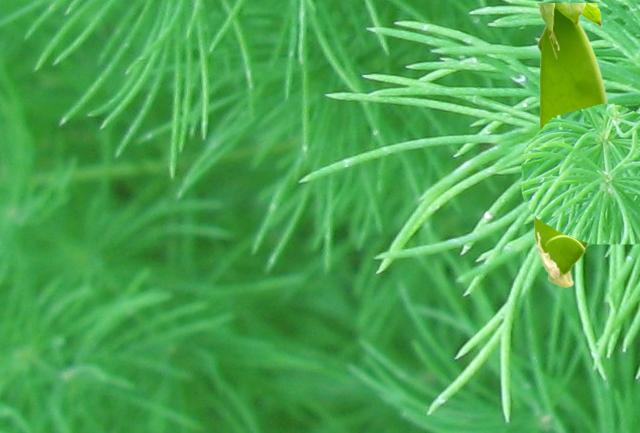pea: (534, 3, 607, 286)
